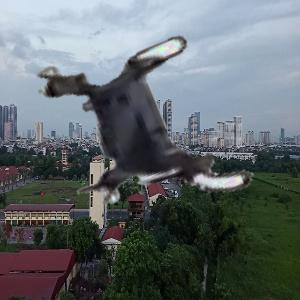drone: (40, 25, 249, 234)
